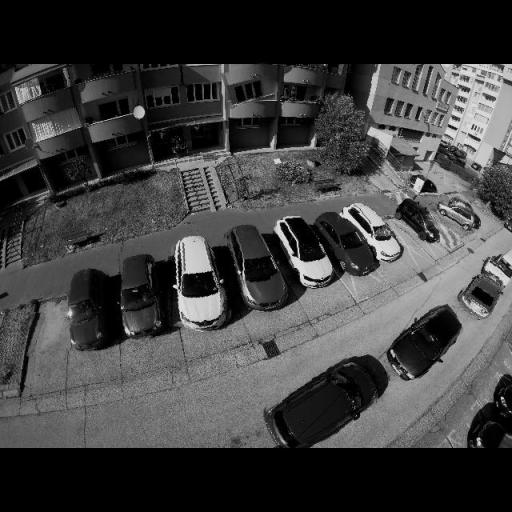busy: (264, 359, 378, 444), (161, 233, 239, 332), (384, 305, 467, 380), (223, 222, 291, 312), (109, 250, 169, 340), (54, 266, 116, 350), (271, 215, 335, 287), (320, 213, 373, 275), (470, 371, 512, 448), (458, 258, 508, 320), (350, 206, 400, 264), (224, 64, 274, 107), (398, 200, 444, 242), (440, 198, 480, 228)
free: (28, 314, 70, 360), (386, 224, 414, 253), (434, 218, 460, 244)
